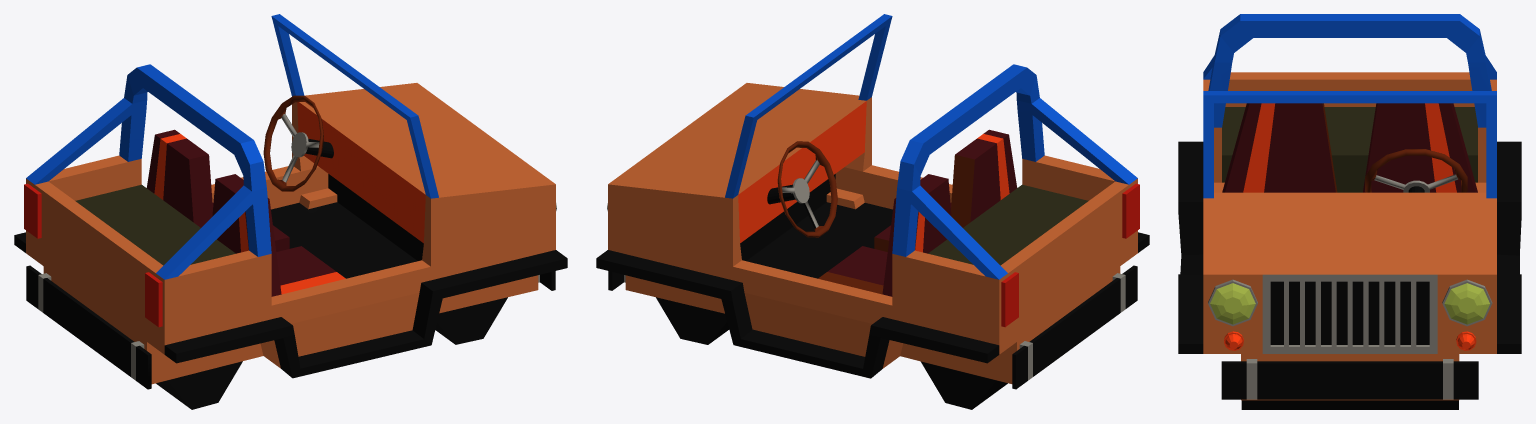
The model's file is body.obj.
3 views of the same model, side by side, from view 1: azimuth 30°, elevation 25°; view 2: azimuth 150°, elevation 25°; view 3: azimuth 270°, elevation 25° (orthographic). The views are drawn at different scales.
Parts seen in each view (by area): view 1: body; view 2: body; view 3: body.
Boxes of the visible parts, x1,y1,x2,y2 form: body: [14, 14, 567, 409]; body: [596, 14, 1149, 409]; body: [1178, 14, 1521, 409].
Bounding box in the file's own units: 4.84 × 2.91 × 3.33.
